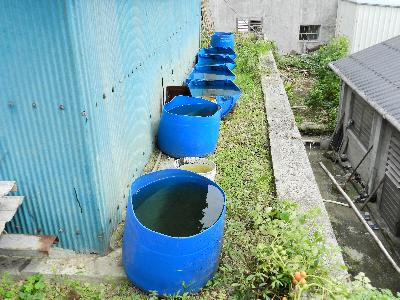bucket: (122, 168, 227, 300), (157, 94, 222, 159), (186, 78, 241, 116)
